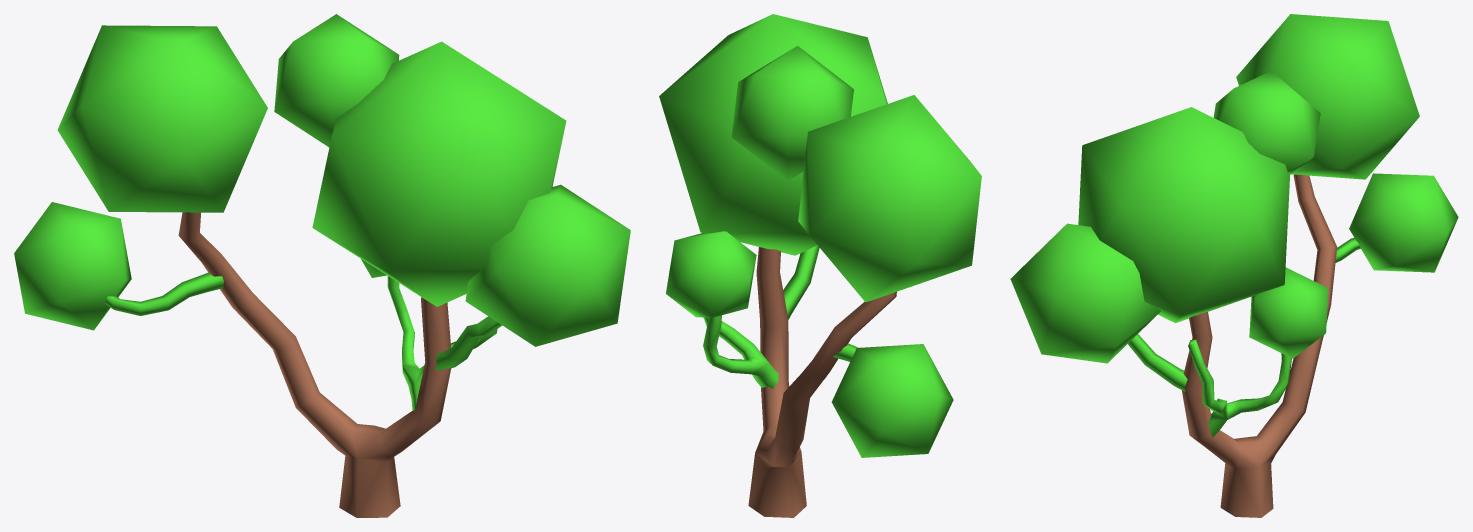
Rendered from tree.fbx.
3 renders of one model, left to right at view 1: azimuth 30°, elevation 25°; view 2: azimuth 150°, elevation 25°; view 3: azimuth 270°, elevation 25°, orthographic. The views are drawn at different scales.
Parts seen in each view (by area): view 1: Tree_lp_11.001; view 2: Tree_lp_11.001; view 3: Tree_lp_11.001.
Boxes of the visible parts, x1,y1,x2,y2 form: Tree_lp_11.001: [14, 14, 630, 517]; Tree_lp_11.001: [659, 14, 981, 517]; Tree_lp_11.001: [1010, 14, 1458, 517].
Bounding box in the file's own units: 15.34 × 17.25 × 16.51.
